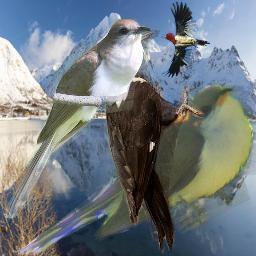Cuckoo: (14, 85, 253, 255), (3, 18, 151, 220)
Woodpecker: (85, 30, 204, 254), (161, 1, 210, 78)
